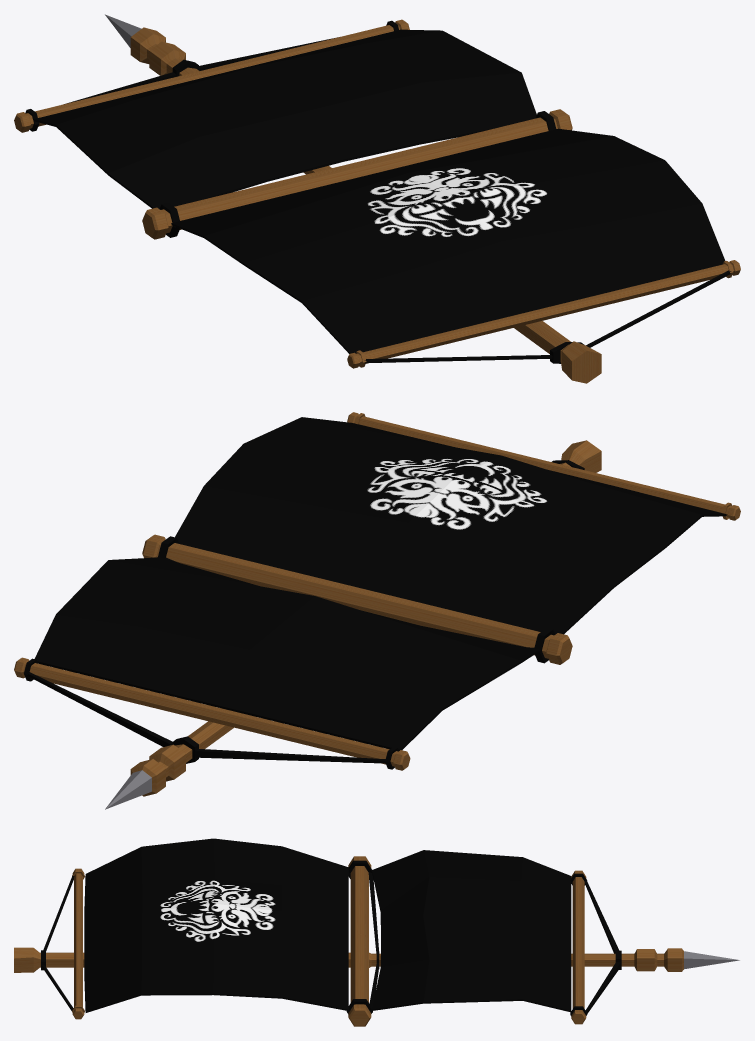
Rendered from sail_a_14.fbx.
3 views of the same model, one above another, from view 1: azimuth 30°, elevation 25°; view 2: azimuth 150°, elevation 25°; view 3: azimuth 270°, elevation 25° (orthographic). The views are drawn at different scales.
Parts seen in each view (by area): view 1: Cube.064; view 2: Cube.064; view 3: Cube.064.
Part boxes in pixels (<box>): Cube.064: <box>14,14,740,383</box>; Cube.064: <box>14,412,740,809</box>; Cube.064: <box>14,838,739,1026</box>.
Bounding box in the file's own units: 142 × 29.46 × 282.
